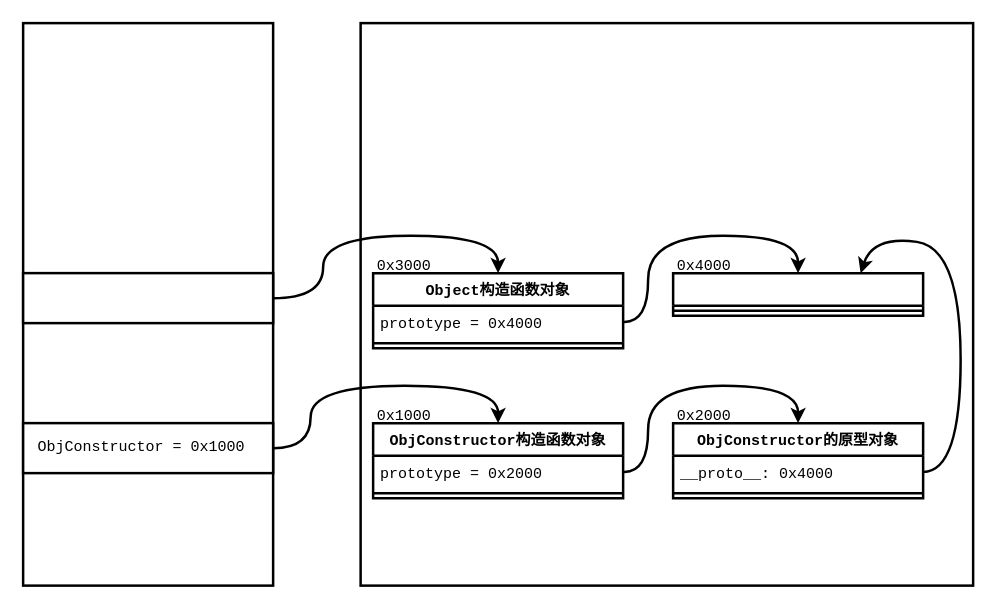
Image size: 995x608. Some labels were removed from this diagram. The shapes that lost their labels are listed below. From the top down, each one's centre as x and y in pixels, then its label:
At (147,297): "Object = 0x3000".
At (797,293): "Object的原型对象".
